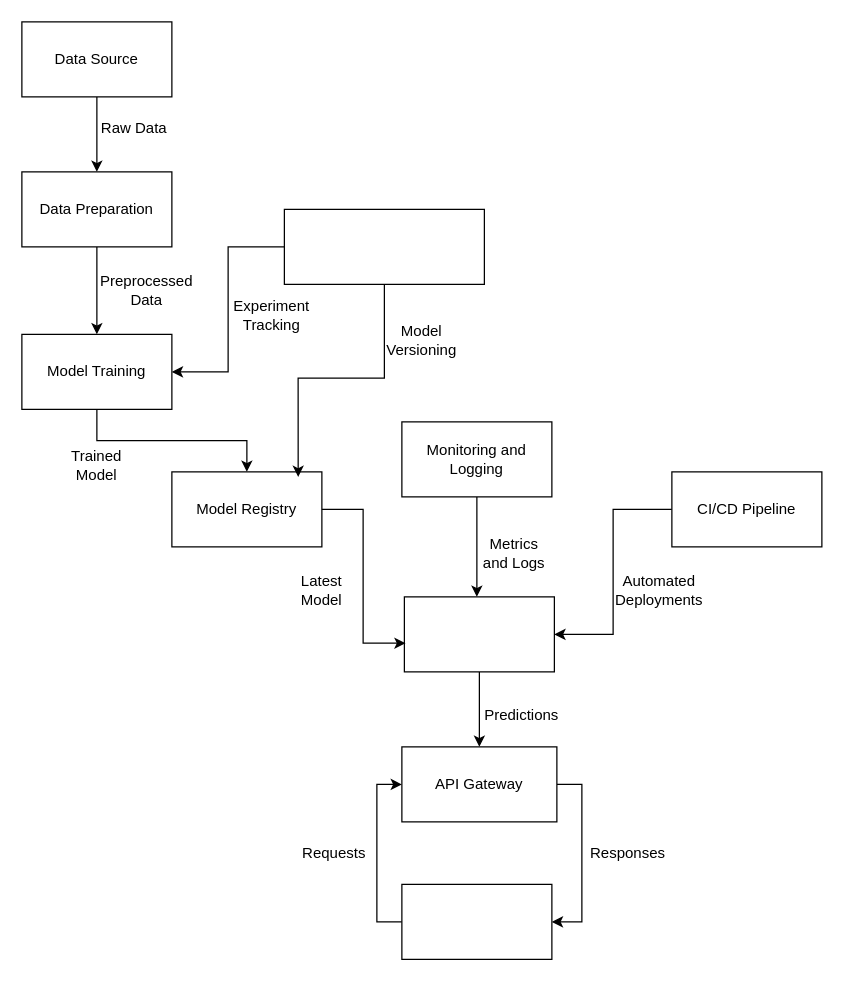
Image size: 844x981. Some labels were removed from this diagram. The centre of each missing label's shape, as x and y in pixels:
"Client Application" belongs at pixel 476 921.
"MLflow Tracking Server" belongs at pixel 383 246.
"Model Serving" belongs at pixel 478 634.
